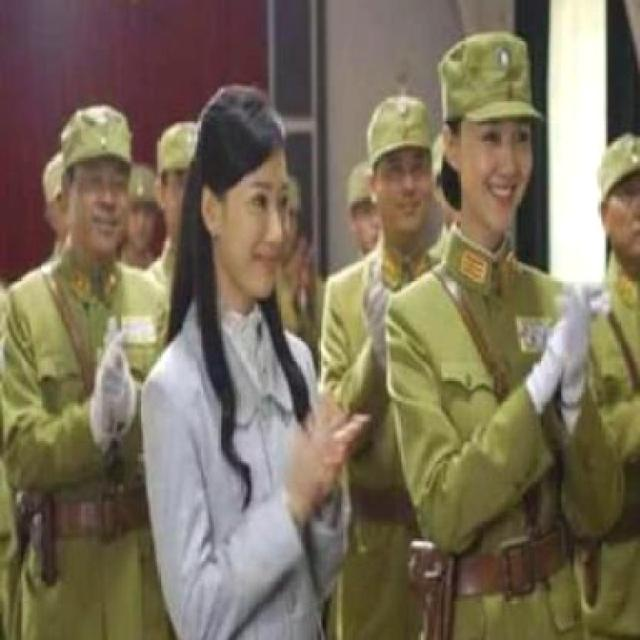face_nomask: (458, 106, 534, 228), (65, 168, 129, 263), (245, 175, 292, 298), (383, 151, 426, 240)
hand_glove: (540, 285, 594, 403), (91, 334, 134, 434), (360, 258, 388, 354)
hand_noglove: (292, 400, 352, 508)
head_nohelmet: (200, 86, 300, 182)
person: (396, 31, 610, 640), (138, 83, 362, 640)
